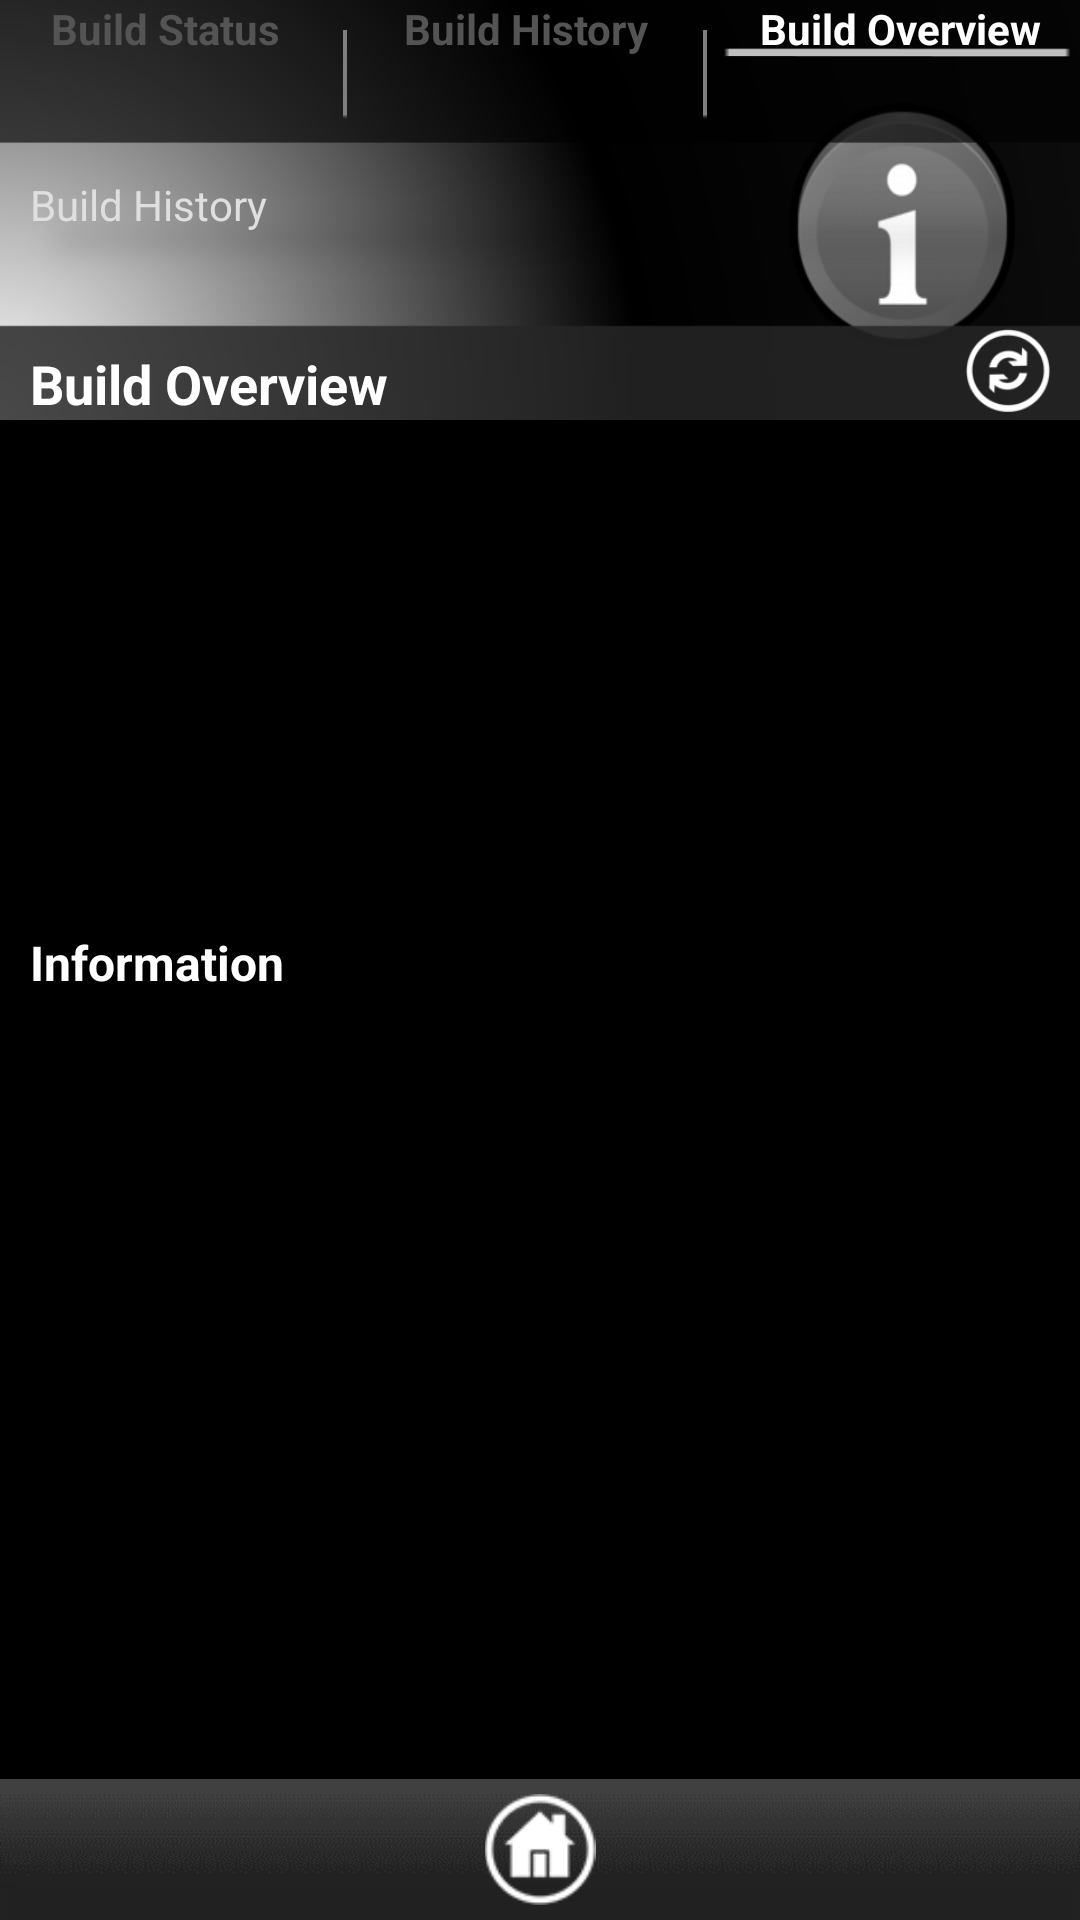

Point at icon controls on the screen. Image size 1080x1920, points as point (x, y).
homeicon: point (540, 1849)
